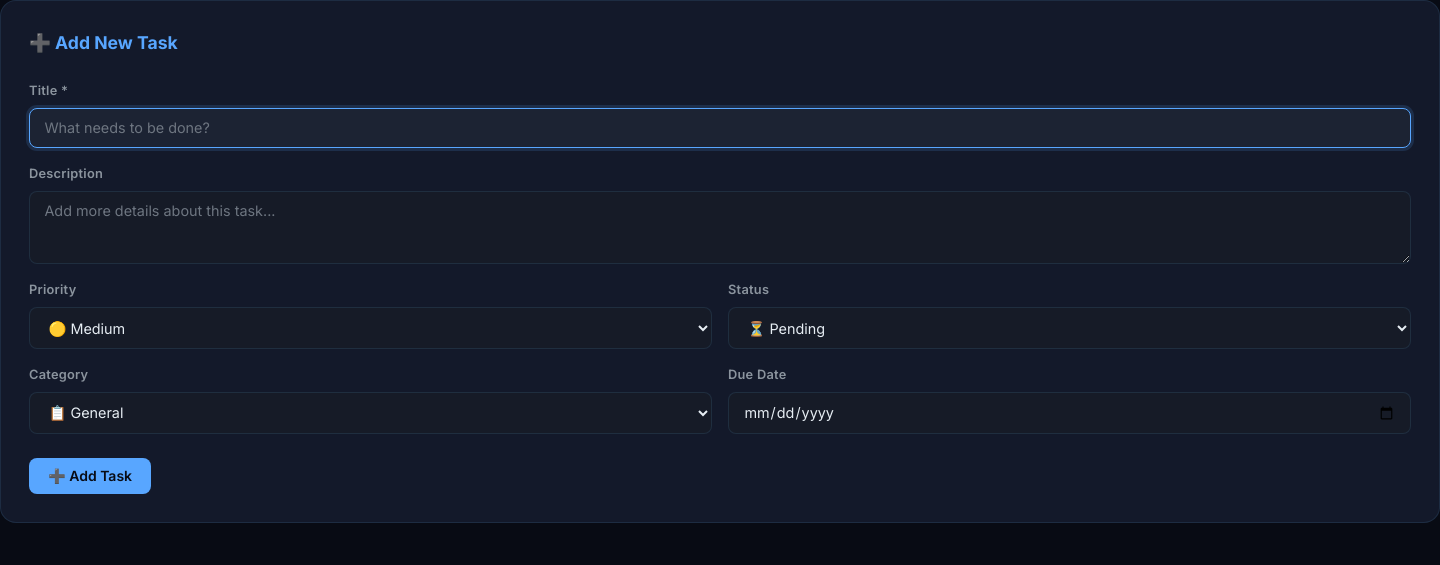
Scenario: TaskForm › shows validation error when title is empty
The width and height of the screenshot is (1440, 565).
Click the button "➕ Add Task": (90, 476) [29, 458, 151, 494]
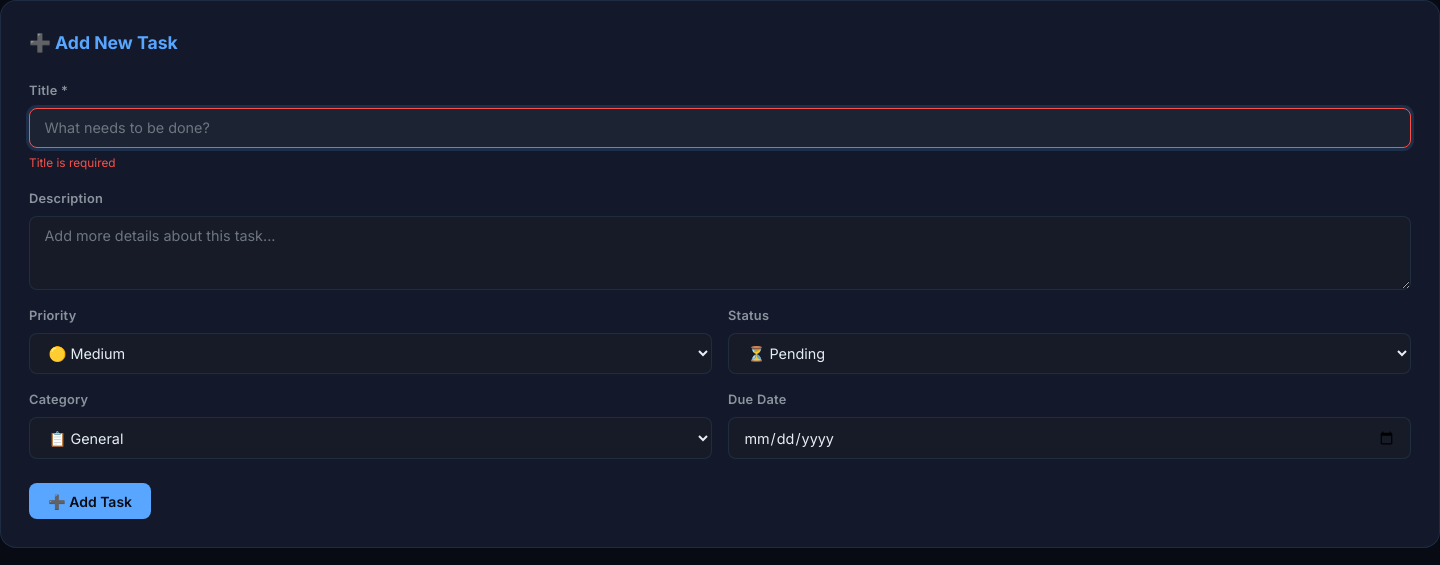
Expected: the text "Title is required" is shown, [29, 156, 116, 170]
